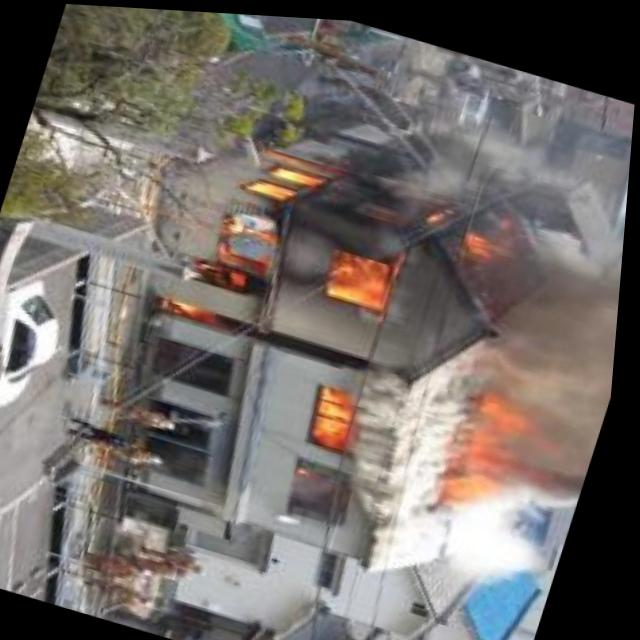Fire: (176, 107, 527, 361), (437, 371, 593, 526), (299, 371, 378, 461)
